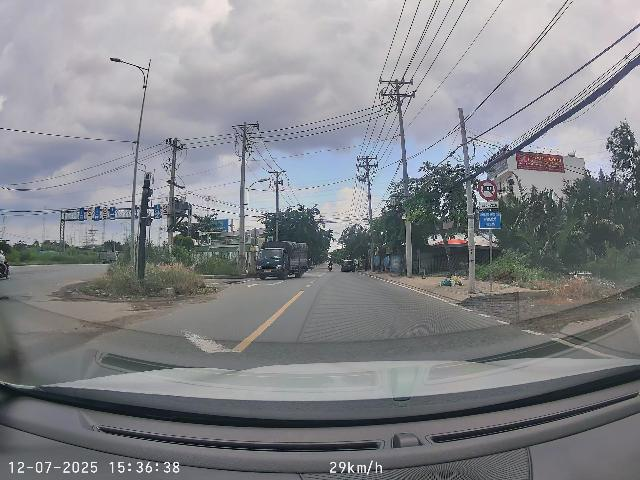106-cam-oto-tai: (478, 179, 497, 200)
